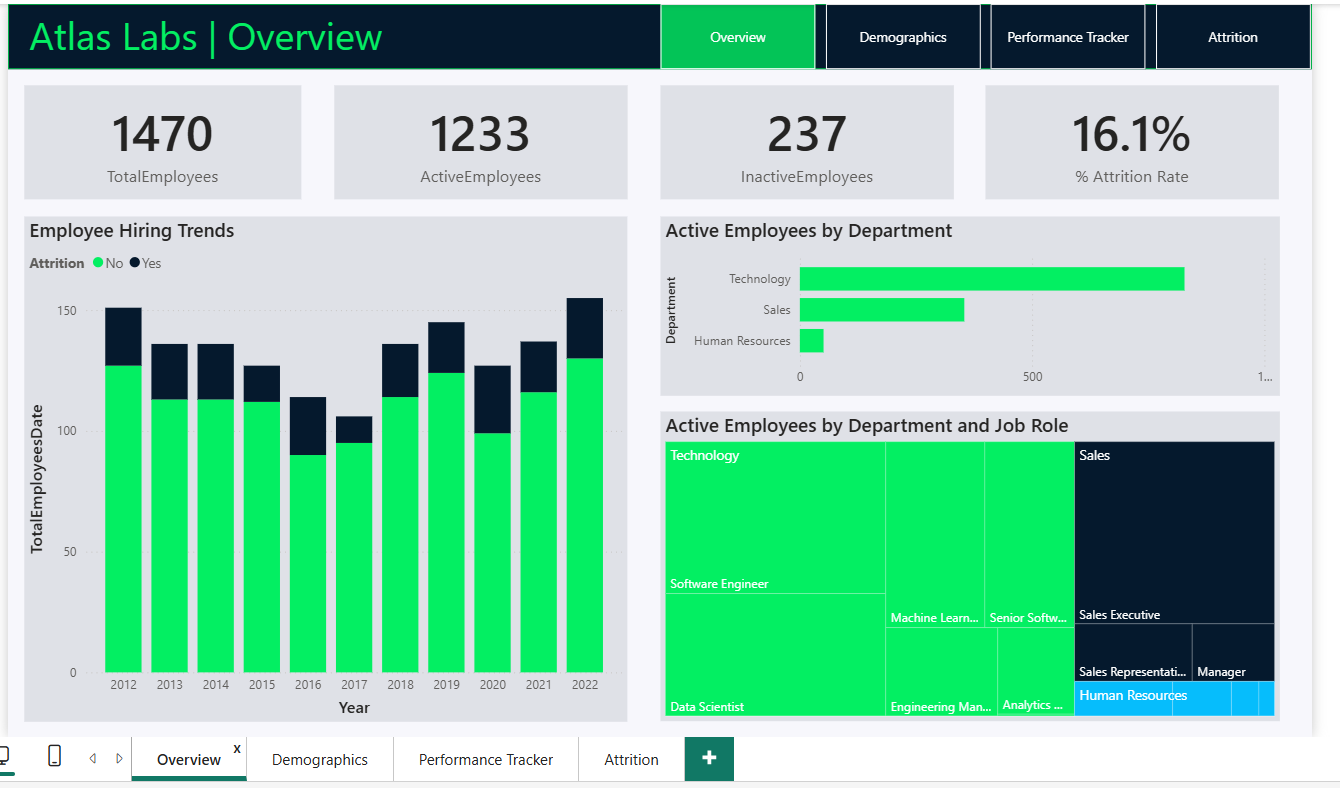

What the dashboard file says about the page in this screenshot:
{"tool":"powerbi","page":{"name":"Overview","canvas":[1280,720],"ordinal":0},"visuals":[{"type":"card","fields":{"Values":["_Measures.TotalEmployees"]},"box":[16,80,272,112],"z":0},{"type":"card","fields":{"Values":["_Measures.ActiveEmployees"]},"box":[320,80,288,112],"z":1000},{"type":"card","fields":{"Values":["_Measures.InactiveEmployees"]},"box":[640,80,288,112],"z":2000},{"type":"card","fields":{"Values":["_Measures.% Attrition Rate"]},"box":[960,80,288,112],"z":3000},{"type":"columnChart","title":"Employee Hiring Trends","fields":{"Category":["DimDate.Date.Variation.Date Hierarchy.Year","DimDate.Date.Variation.Date Hierarchy.Quarter","DimDate.Date.Variation.Date Hierarchy.Month","DimDate.Date.Variation.Date Hierarchy.Day"],"Y":["_Measures.TotalEmployeesDate"],"Series":["DimEmployee.Attrition"]},"box":[16,208,592,496],"z":4000},{"type":"clusteredBarChart","title":"Active Employees by Department","fields":{"Category":["DimEmployee.Department"],"Y":["_Measures.ActiveEmployees"]},"box":[640,208,608,176],"z":5000},{"type":"treemap","title":"Active Employees by Department and Job Role","fields":{"Values":["_Measures.ActiveEmployees"],"Group":["DimEmployee.Department"],"Details":["DimEmployee.JobRole"]},"box":[640,400,608,304],"z":6000},{"type":"shape","box":[0,0,1280,64],"z":7000},{"type":"textbox","box":[16,0,448,64],"z":8000},{"type":"pageNavigator","box":[640,0,640,64],"z":9000}]}

Visuals, with their boxes on the page's 1280x720 design canvas (x1, y1, x2, y2). These are canvas units, not pixel positions in the 1340x788 screenshot, which may show the page scaled, cropped or inside an application window:
card - _Measures.TotalEmployees: <bbox>16, 80, 288, 192</bbox>
card - _Measures.ActiveEmployees: <bbox>320, 80, 608, 192</bbox>
card - _Measures.InactiveEmployees: <bbox>640, 80, 928, 192</bbox>
card - _Measures.% Attrition Rate: <bbox>960, 80, 1248, 192</bbox>
"Employee Hiring Trends" columnChart: <bbox>16, 208, 608, 704</bbox>
"Active Employees by Department" clusteredBarChart: <bbox>640, 208, 1248, 384</bbox>
"Active Employees by Department and Job Role" treemap: <bbox>640, 400, 1248, 704</bbox>
shape: <bbox>0, 0, 1280, 64</bbox>
textbox: <bbox>16, 0, 464, 64</bbox>
pageNavigator: <bbox>640, 0, 1280, 64</bbox>
